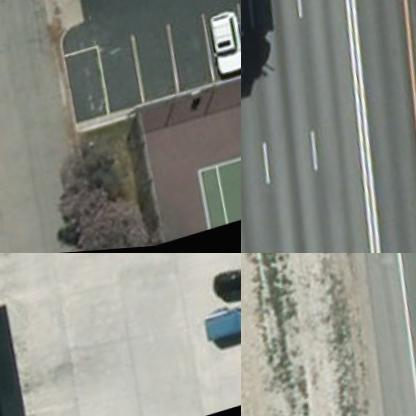car: (207, 13, 240, 81), (212, 262, 240, 313)
pickup: (201, 292, 240, 349)
